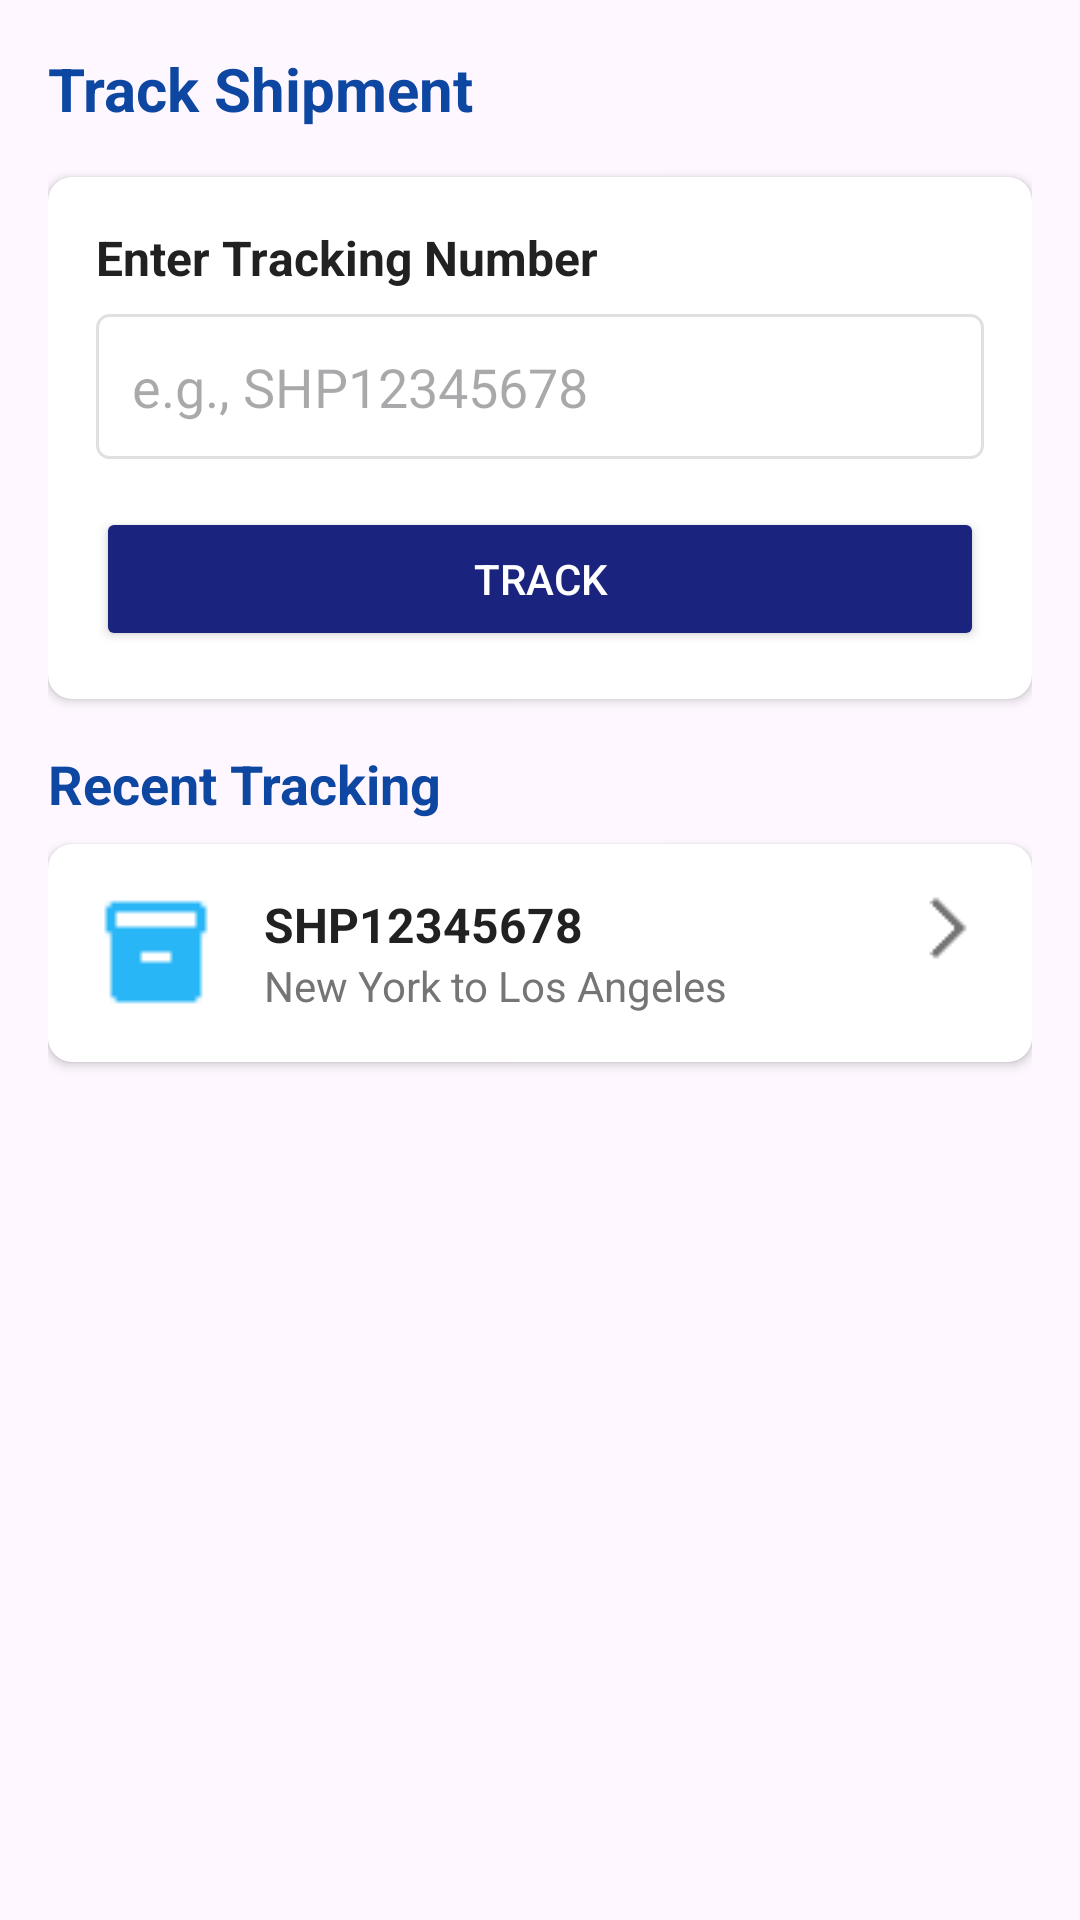

Icon click points for this 1080 × 1920 phone screenshot, format (x,y):
Package: (156,952)
View Details: (947,928)
